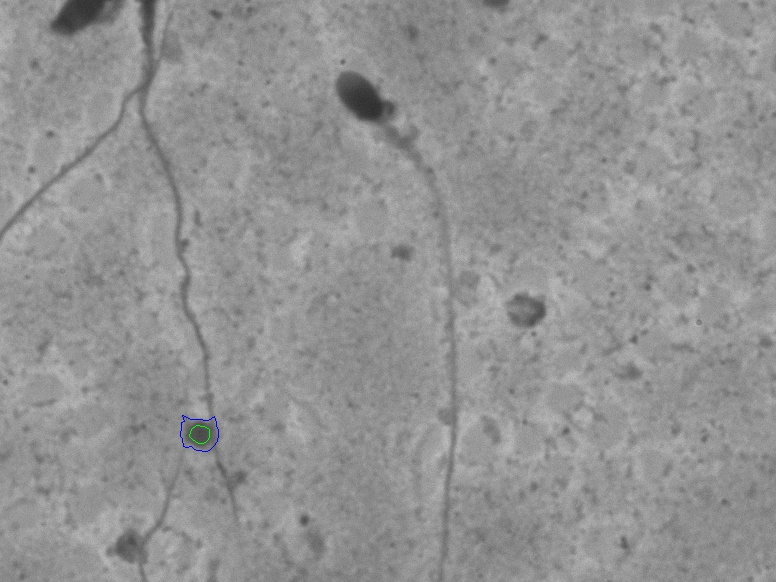Normal: (300, 47, 469, 580)
